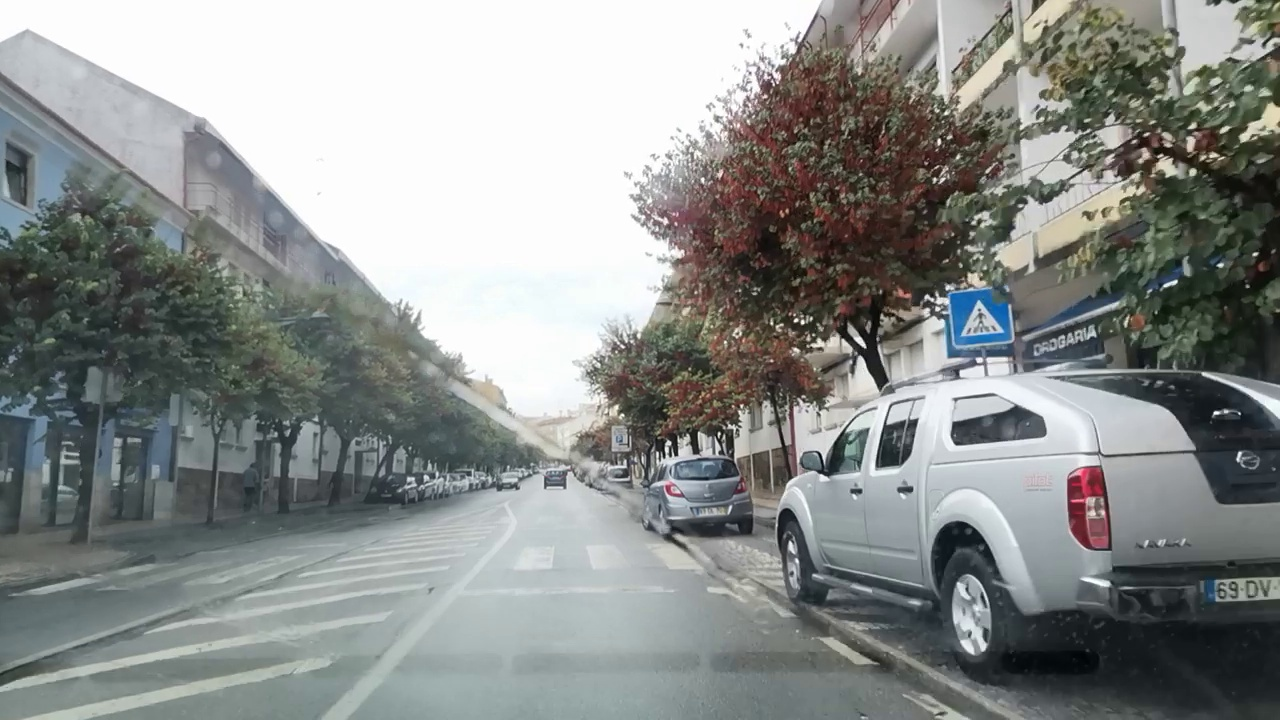Stairs: (18, 555, 293, 596), (510, 540, 703, 572)
